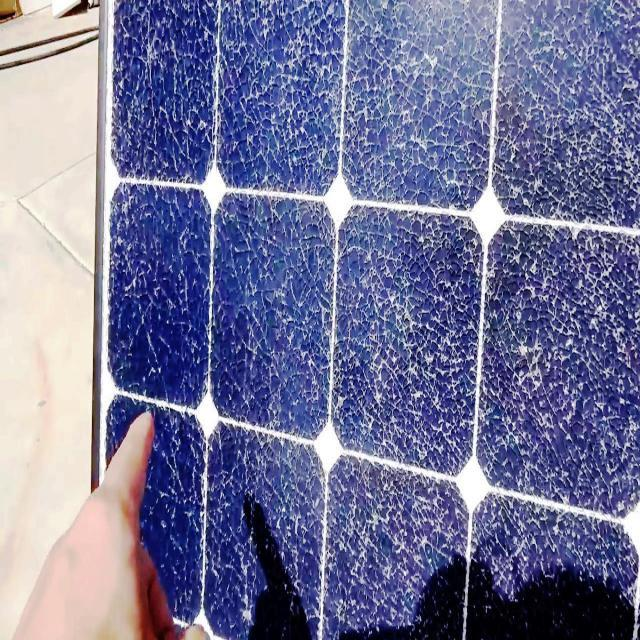faulty: (102, 2, 639, 640)
